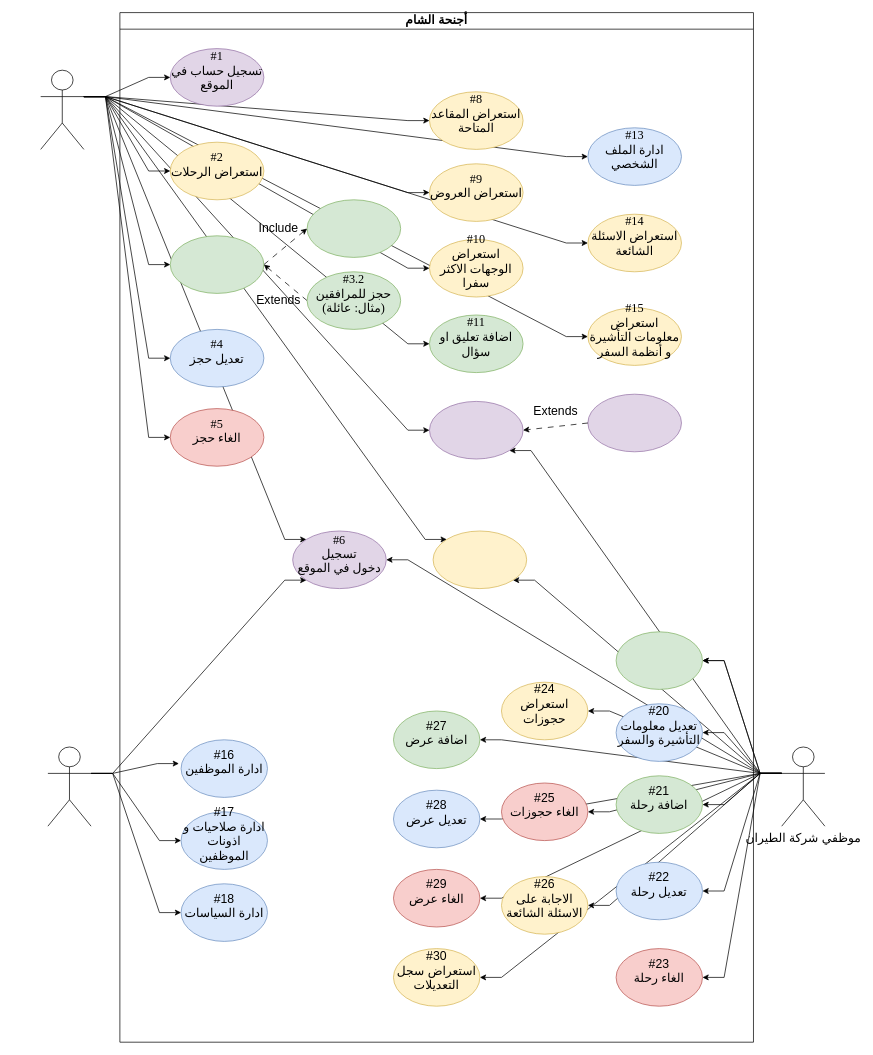
The diagram is 873 pixels wide and 1055 high, and some of its shapes have lost their labels. The shapes that lost their labels are listed below. From the top down, each one's box as (x1, y1, x2, y2) in pixels, then its label:
(40, 69, 84, 149): المستخدم(المسافر)
(306, 199, 401, 257): #3.1 اختيار نوع الحجز و المقعد
(170, 235, 264, 293): #3 حجز رحلة
(429, 401, 523, 459): #12 استخدام المجيب الآلي
(587, 393, 681, 452): #12.1 الاستفسار عن السياسات
(432, 530, 527, 589): #7 البحث عن الرحلات
(615, 631, 703, 689): #19 اضافة معلومات التأشيرة والسفر
(47, 746, 91, 826): مدير النظام
